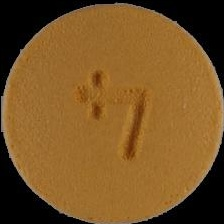68084-270: (0, 0, 224, 224)
